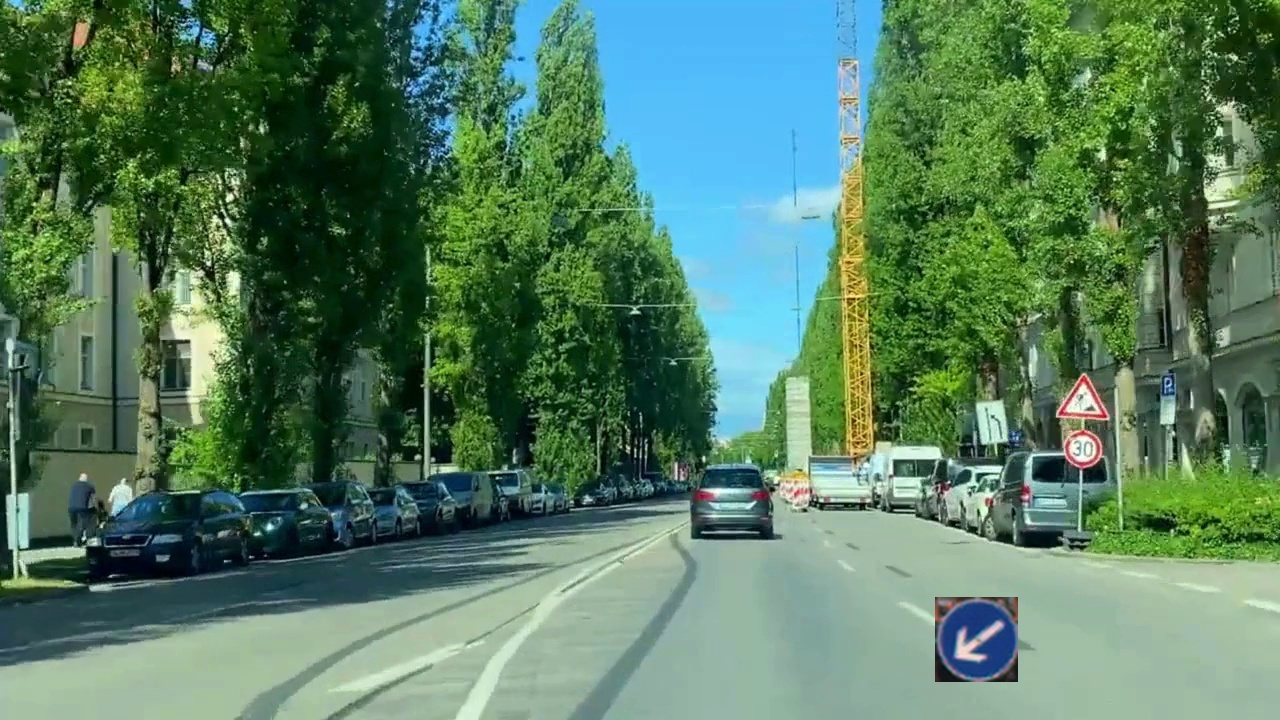Keep left: (935, 597, 1018, 682)
